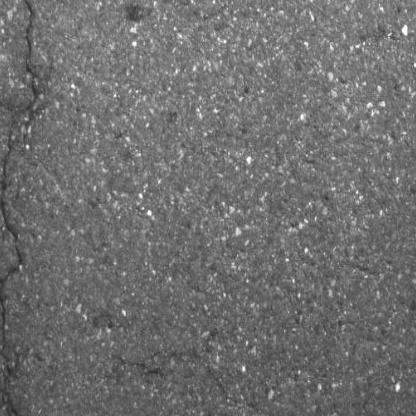Cracks: (0, 0, 40, 416)
